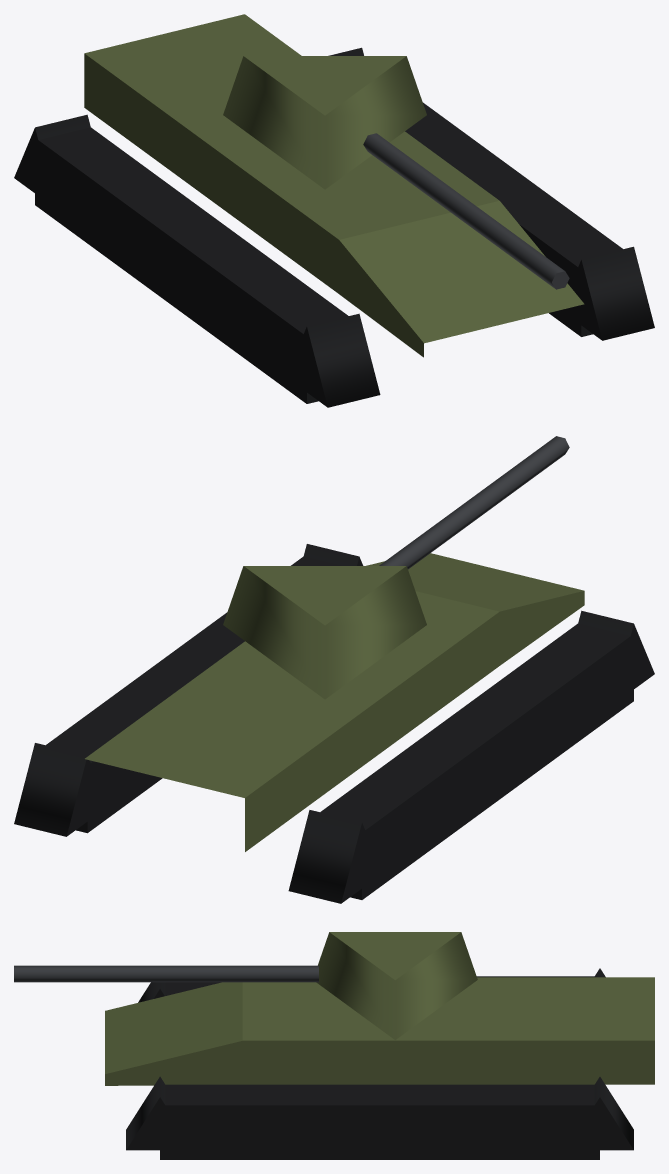
Rendered from veh_ground_tank_heavy_a06_lod2.glb.
3 renders of one model, top to bottom at view 1: azimuth 30°, elevation 25°; view 2: azimuth 150°, elevation 25°; view 3: azimuth 270°, elevation 25°, orthographic. The views are drawn at different scales.
Visible parts, largest first — view 1: body, track_r, turret, track_l; view 2: body, track_r, turret, track_l; view 3: body, track_l, turret, track_r.
Part boxes in pixels (x1=…): body: x1=84, y1=14, x2=584, y2=357; track_r: x1=14, y1=114, x2=380, y2=407; turret: x1=223, y1=56, x2=569, y2=289; track_l: x1=328, y1=47, x2=654, y2=340; body: x1=85, y1=553, x2=584, y2=851; track_r: x1=288, y1=610, x2=654, y2=903; turret: x1=223, y1=436, x2=569, y2=699; track_l: x1=14, y1=544, x2=363, y2=836; body: x1=105, y1=977, x2=654, y2=1085; track_l: x1=126, y1=1076, x2=633, y2=1159; turret: x1=14, y1=932, x2=477, y2=1039; track_r: x1=138, y1=968, x2=605, y2=1002.
Size of the model in its own units: 4.01 by 2.13 by 8.41.
